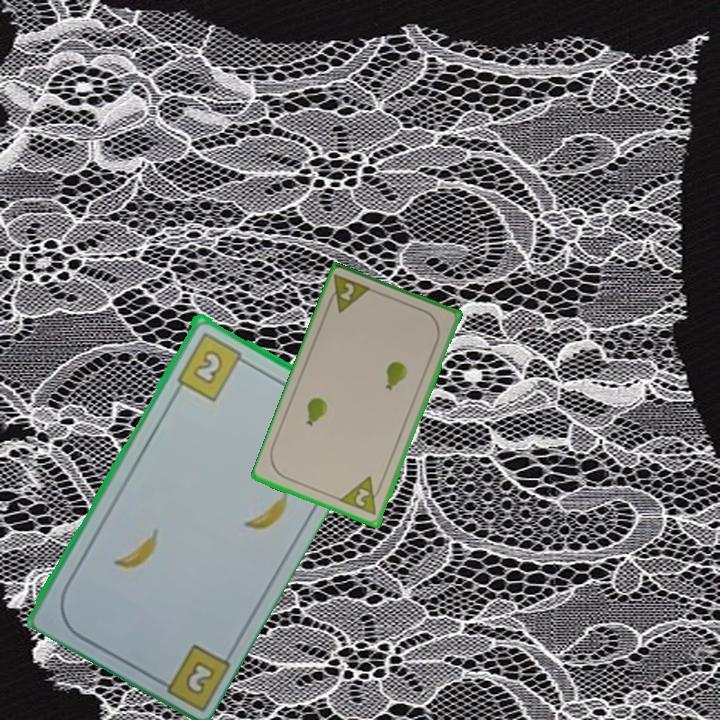2b: (173, 328, 252, 404), (149, 640, 233, 710)
2p: (322, 272, 375, 316), (337, 473, 387, 519)
